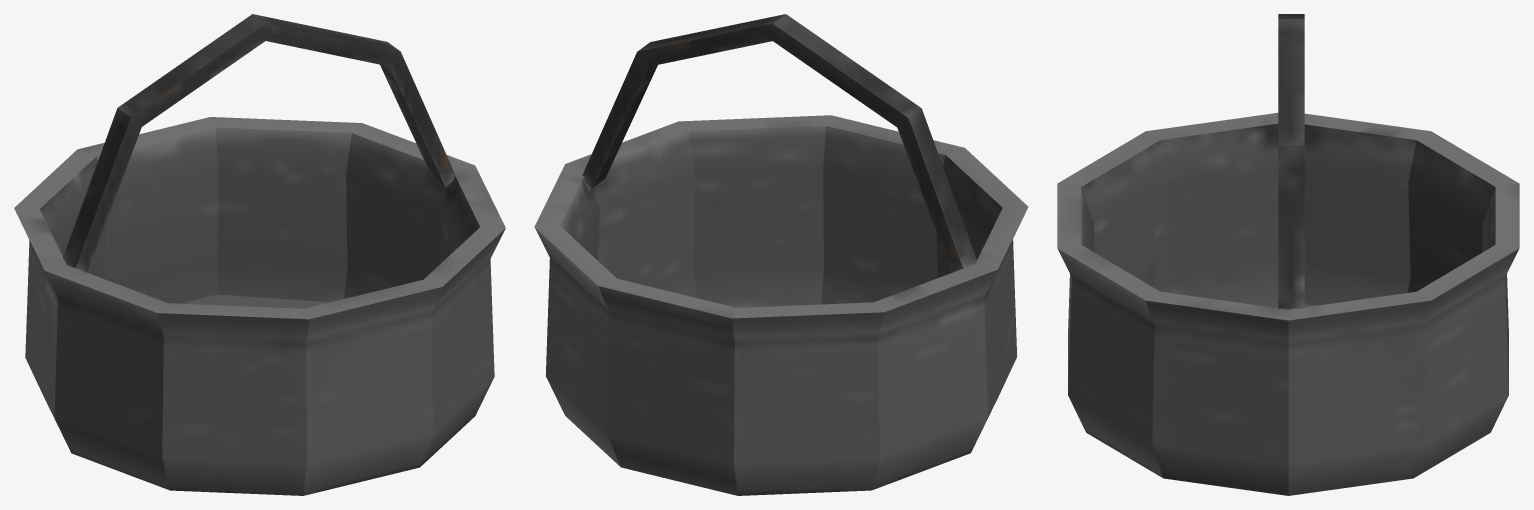
File: pot.fbx
The picture shows the model from 3 angles, left to right: view 1: azimuth 30°, elevation 25°; view 2: azimuth 150°, elevation 25°; view 3: azimuth 270°, elevation 25°; orthographic projection.
Visible parts, largest first — view 1: pCylinder15; view 2: pCylinder15; view 3: pCylinder15.
Boxes of the visible parts, x1=… form: pCylinder15: x1=14, y1=14, x2=505, y2=495; pCylinder15: x1=534, y1=14, x2=1028, y2=495; pCylinder15: x1=1057, y1=14, x2=1519, y2=495.
Size of the model in its own units: 436 by 374 by 407.
